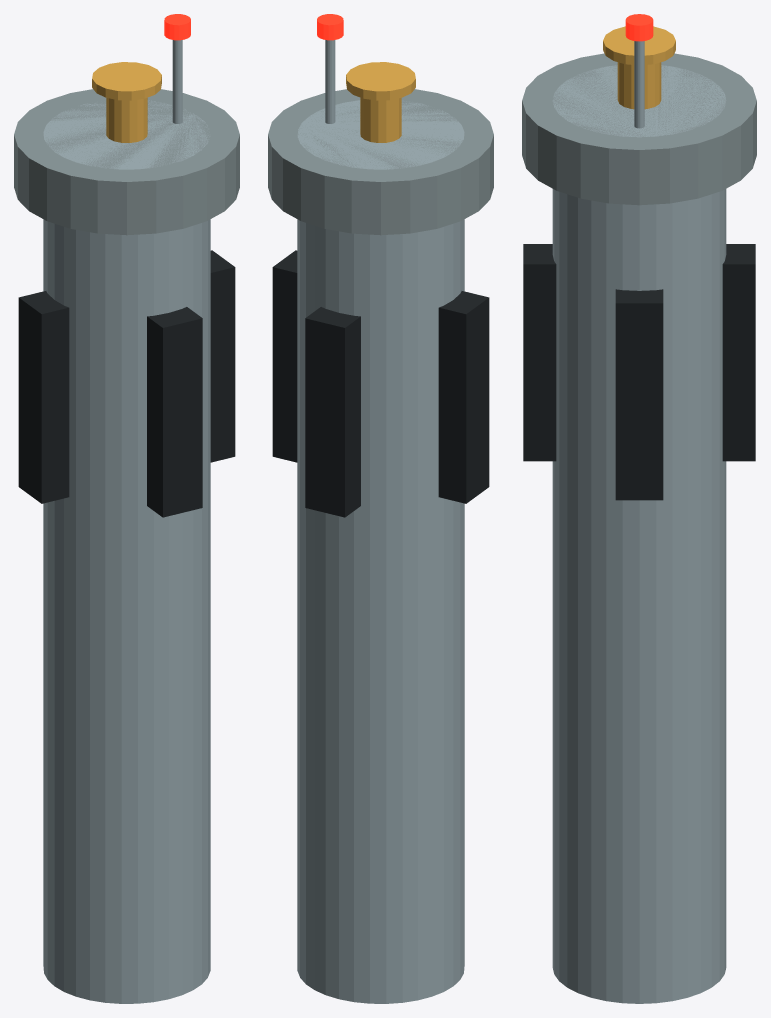
The model's file is mooring-dolphin.glb.
The picture shows the model from 3 angles, left to right: view 1: azimuth 30°, elevation 25°; view 2: azimuth 150°, elevation 25°; view 3: azimuth 270°, elevation 25°; orthographic projection. The views are drawn at different scales.
Visible parts, largest first — view 1: Pile, Fenders, Cap, Bollard, WarningLight; view 2: Pile, Fenders, Cap, Bollard, WarningLight; view 3: Pile, Cap, Fenders, Bollard, WarningLight.
Boxes of the visible parts, x1,y1,x2,y2 form: Pile: (43, 100, 210, 1003); Fenders: (18, 250, 235, 517); Cap: (14, 89, 239, 235); Bollard: (92, 62, 161, 142); WarningLight: (164, 14, 190, 123); Pile: (297, 100, 464, 1003); Fenders: (272, 250, 489, 517); Cap: (268, 89, 493, 235); Bollard: (346, 62, 415, 142); WarningLight: (317, 14, 343, 123); Pile: (552, 65, 726, 1003); Cap: (522, 53, 756, 205); Fenders: (523, 244, 755, 500); Bollard: (603, 26, 675, 109); WarningLight: (625, 14, 653, 128).
Bounding box in the file's own units: 2.7 × 12.35 × 2.7.
